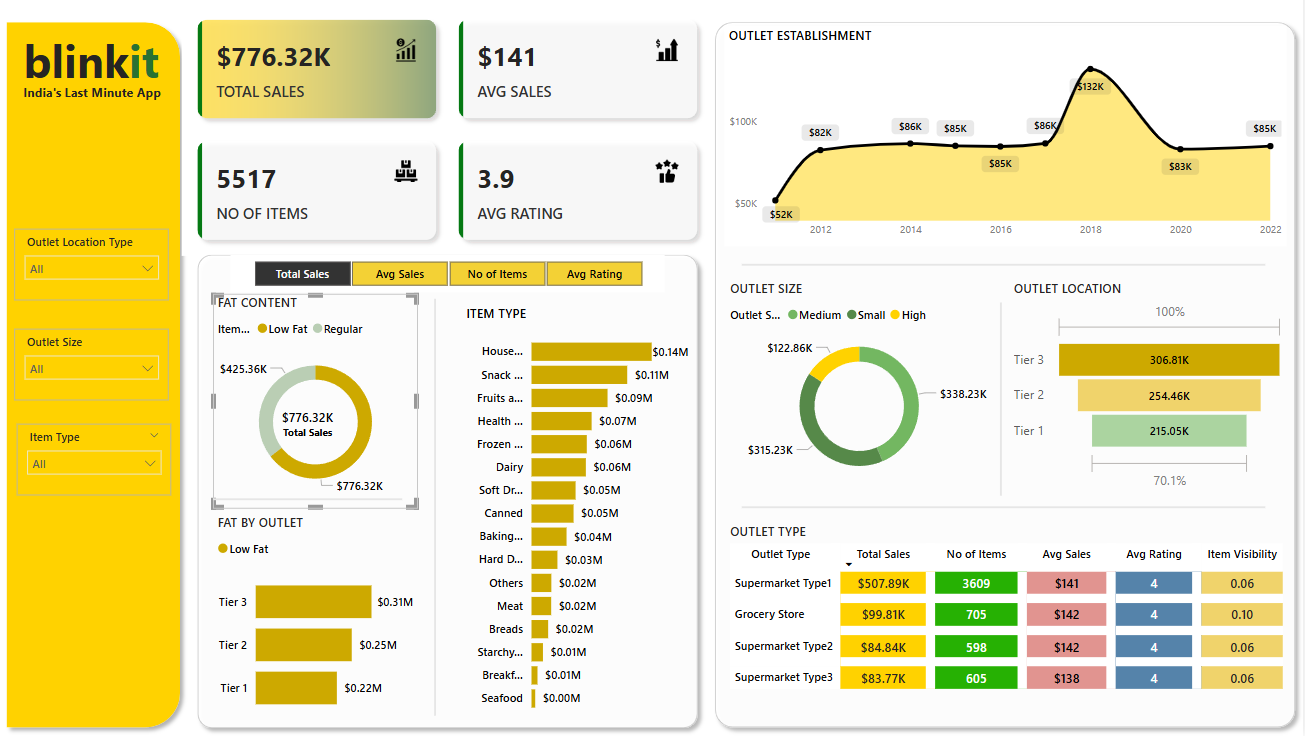

The dashboard page shown, as its layout file describes it:
{"tool":"powerbi","page":{"name":"Page 1","canvas":[1400,800],"ordinal":0},"visuals":[{"type":"shape","box":[0,25.7,204.3,774.3],"z":0},{"type":"textbox","box":[0,37.1,200,75.7],"z":1000},{"type":"textbox","box":[18.6,95.7,164.3,54.3],"z":2000},{"type":"cardVisual","fields":{"Data":["BlinkIT Grocery Data.Total Sales","BlinkIT Grocery Data.Avg Sales","BlinkIT Grocery Data.No of Items","BlinkIT Grocery Data.Avg Rating"]},"box":[197.1,14.3,570,270],"z":3000},{"type":"shape","box":[205.7,274.3,554.3,525.7],"z":4000},{"type":"donutChart","title":"FAT CONTENT","fields":{"Y":["BlinkIT Grocery Data.Total Sales"],"Category":["BlinkIT Grocery Data.Item Fat Content"]},"box":[230,325.7,220,230],"z":5000},{"type":"slicer","fields":{"Values":["Metrics.Metrics"]},"box":[250,284.3,465.7,40],"z":6000},{"type":"cardVisual","fields":{"Data":["BlinkIT Grocery Data.Total Sales"]},"box":[272.9,427.1,117.1,75.7],"z":7000},{"type":"clusteredBarChart","title":"FAT BY OUTLET","fields":{"Y":["BlinkIT Grocery Data.Total Sales"],"Series":["BlinkIT Grocery Data.Item Fat Content"],"Category":["BlinkIT Grocery Data.Outlet Location Type"]},"box":[230,561.4,220,230],"z":8000},{"type":"shape","box":[230,537.1,202.9,17.1],"z":9000},{"type":"shape","box":[454.3,331.4,28.6,447.1],"z":10000},{"type":"barChart","title":"ITEM TYPE","fields":{"Y":["BlinkIT Grocery Data.Total Sales"],"Category":["BlinkIT Grocery Data.Item Type"]},"box":[497.1,337.1,248.6,447.1],"z":11000},{"type":"shape","box":[760,25.7,640,774.3],"z":12000},{"type":"lineChart","title":"OUTLET ESTABLISHMENT","fields":{"Category":["BlinkIT Grocery Data.Outlet Establishment Year"],"Y":["BlinkIT Grocery Data.Total Sales"]},"box":[778.6,38.6,602.9,235.7],"z":13000},{"type":"shape","box":[797.1,277.1,561.4,34.3],"z":14000},{"type":"donutChart","title":"OUTLET SIZE","fields":{"Y":["BlinkIT Grocery Data.Total Sales"],"Category":["BlinkIT Grocery Data.Outlet Size"]},"box":[780,311.4,287.1,225.7],"z":15000},{"type":"shape","box":[1068.6,335.7,14.3,207.1],"z":16000},{"type":"funnel","title":"OUTLET LOCATION","fields":{"Category":["BlinkIT Grocery Data.Outlet Location Type"],"Y":["Sum(BlinkIT Grocery Data.Sales)"]},"box":[1084.3,311.4,300,230],"z":17000},{"type":"shape","box":[797.1,537.1,561.4,34.3],"z":18000},{"type":"pivotTable","title":"OUTLET TYPE","fields":{"Rows":["BlinkIT Grocery Data.Outlet Type"],"Values":["BlinkIT Grocery Data.Total Sales","BlinkIT Grocery Data.No of Items","BlinkIT Grocery Data.Avg Sales","BlinkIT Grocery Data.Avg Rating","Avg(BlinkIT Grocery Data.Item Visibility)"]},"box":[780,571.4,604.3,212.9],"z":19000},{"type":"slicer","fields":{"Values":["BlinkIT Grocery Data.Outlet Location Type"]},"box":[17.1,255.7,165.7,77.1],"z":20000},{"type":"slicer","fields":{"Values":["BlinkIT Grocery Data.Outlet Size"]},"box":[17.1,362.9,165.7,77.1],"z":21000},{"type":"slicer","fields":{"Values":["BlinkIT Grocery Data.Item Type"]},"box":[20,465.7,165.7,77.1],"z":22000}]}

Visuals, with their boxes in screenshot pixels (x1, y1, x2, y2), scaled from the page's 1400x800 canvas onto the 1305x736 screenshot:
shape: {"left": 0, "top": 24, "right": 190, "bottom": 735}
textbox: {"left": 0, "top": 34, "right": 186, "bottom": 104}
textbox: {"left": 17, "top": 88, "right": 170, "bottom": 138}
cardVisual - BlinkIT Grocery Data.Total Sales x BlinkIT Grocery Data.Avg Sales: {"left": 184, "top": 13, "right": 715, "bottom": 262}
shape: {"left": 192, "top": 252, "right": 708, "bottom": 735}
"FAT CONTENT" donutChart: {"left": 214, "top": 300, "right": 419, "bottom": 511}
slicer - Metrics.Metrics: {"left": 233, "top": 262, "right": 667, "bottom": 298}
cardVisual - BlinkIT Grocery Data.Total Sales: {"left": 254, "top": 393, "right": 364, "bottom": 463}
"FAT BY OUTLET" clusteredBarChart: {"left": 214, "top": 516, "right": 419, "bottom": 728}
shape: {"left": 214, "top": 494, "right": 404, "bottom": 510}
shape: {"left": 423, "top": 305, "right": 450, "bottom": 716}
"ITEM TYPE" barChart: {"left": 463, "top": 310, "right": 695, "bottom": 721}
shape: {"left": 708, "top": 24, "right": 1304, "bottom": 735}
"OUTLET ESTABLISHMENT" lineChart: {"left": 726, "top": 36, "right": 1288, "bottom": 252}
shape: {"left": 743, "top": 255, "right": 1266, "bottom": 286}
"OUTLET SIZE" donutChart: {"left": 727, "top": 286, "right": 995, "bottom": 494}
shape: {"left": 996, "top": 309, "right": 1009, "bottom": 499}
"OUTLET LOCATION" funnel: {"left": 1011, "top": 286, "right": 1290, "bottom": 498}
shape: {"left": 743, "top": 494, "right": 1266, "bottom": 526}
"OUTLET TYPE" pivotTable: {"left": 727, "top": 526, "right": 1290, "bottom": 722}
slicer - BlinkIT Grocery Data.Outlet Location Type: {"left": 16, "top": 235, "right": 170, "bottom": 306}
slicer - BlinkIT Grocery Data.Outlet Size: {"left": 16, "top": 334, "right": 170, "bottom": 405}
slicer - BlinkIT Grocery Data.Item Type: {"left": 19, "top": 428, "right": 173, "bottom": 499}
